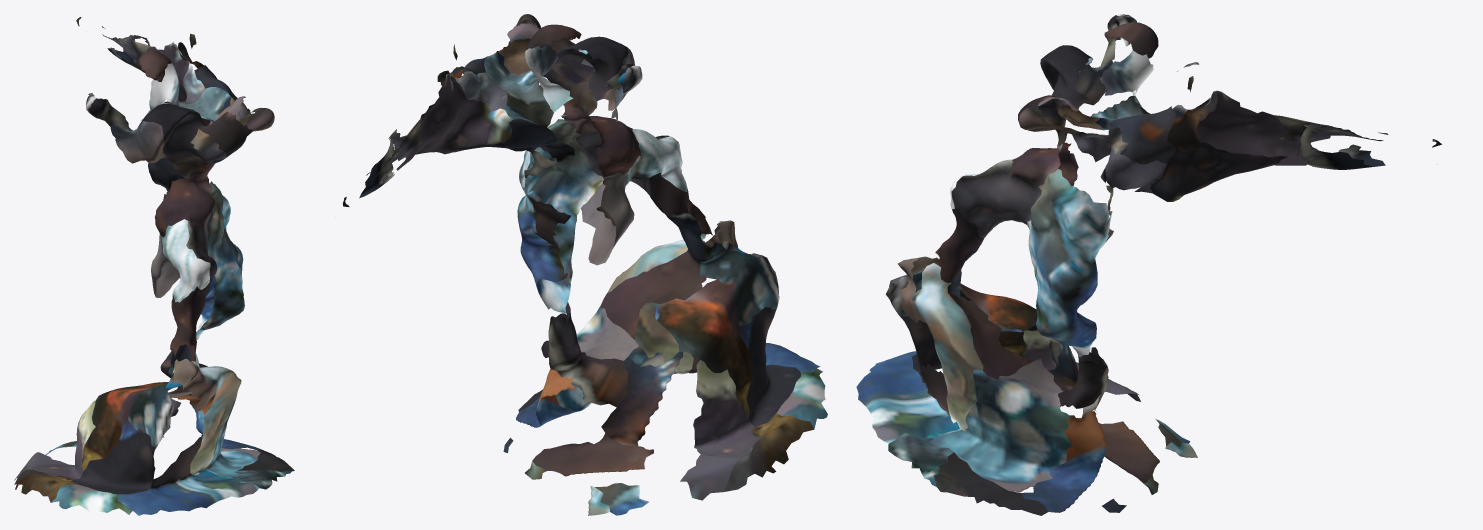
File: Maddox.fbx
The picture shows the model from 3 angles, left to right: view 1: azimuth 30°, elevation 25°; view 2: azimuth 150°, elevation 25°; view 3: azimuth 270°, elevation 25°; orthographic projection. The views are drawn at different scales.
Parts seen in each view (by area): view 1: Mesh_0; view 2: Mesh_0; view 3: Mesh_0.
Part boxes in pixels (x1,y1,x2,y2): Mesh_0: (14, 17, 294, 515); Mesh_0: (342, 14, 827, 515); Mesh_0: (856, 14, 1441, 515).
Bounding box in the file's own units: 27.77 × 41.38 × 48.99.
